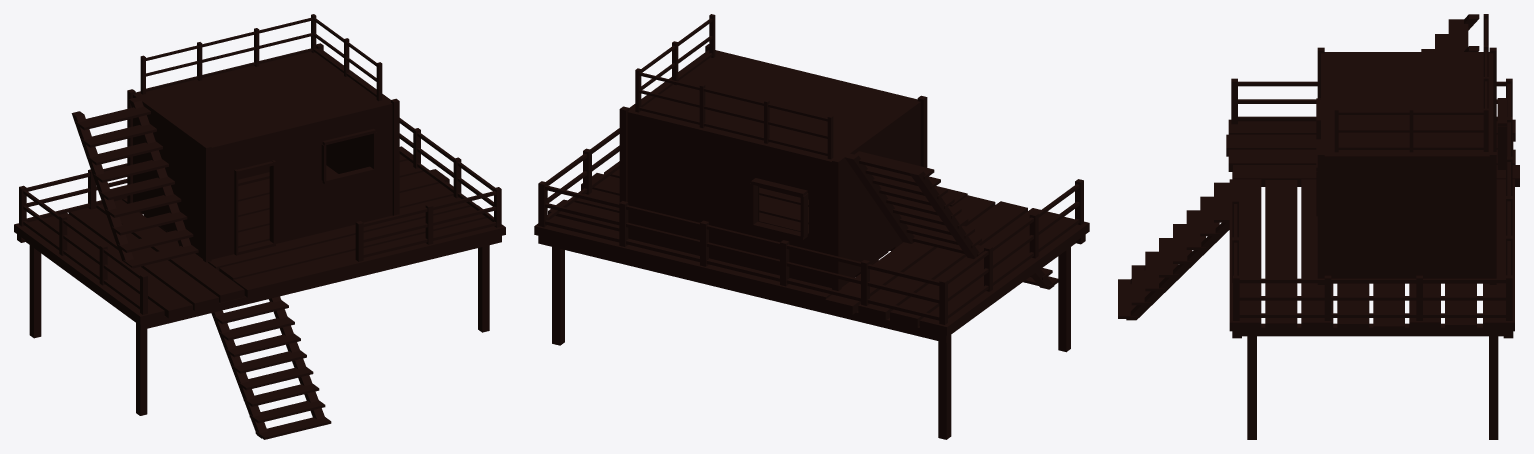
Rendered from House_Old.fbx.
3 views of the same model, side by side, from view 1: azimuth 30°, elevation 25°; view 2: azimuth 150°, elevation 25°; view 3: azimuth 270°, elevation 25° (orthographic). The views are drawn at different scales.
Visible parts, largest first — view 1: House_Old; view 2: House_Old; view 3: House_Old.
Boxes of the visible parts, x1=… form: House_Old: x1=14, y1=14, x2=505, y2=439; House_Old: x1=534, y1=14, x2=1089, y2=439; House_Old: x1=1118, y1=14, x2=1519, y2=439.
Size of the model in its own units: 76.72 by 50.38 by 62.99.
